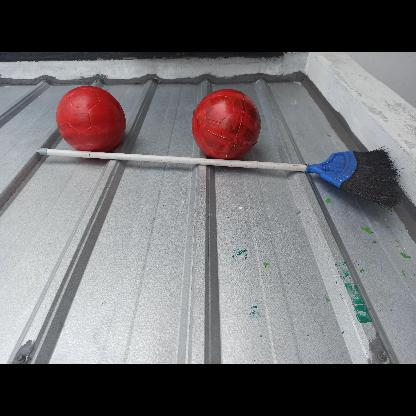red_ball: (55, 84, 125, 154), (192, 90, 260, 158)
